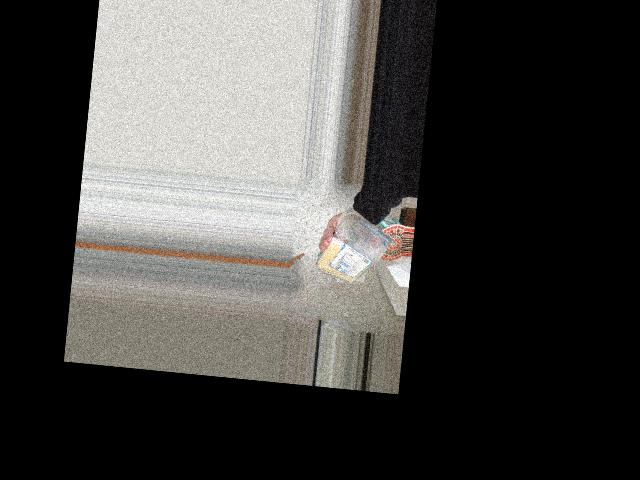cheese: (322, 216, 394, 292)
